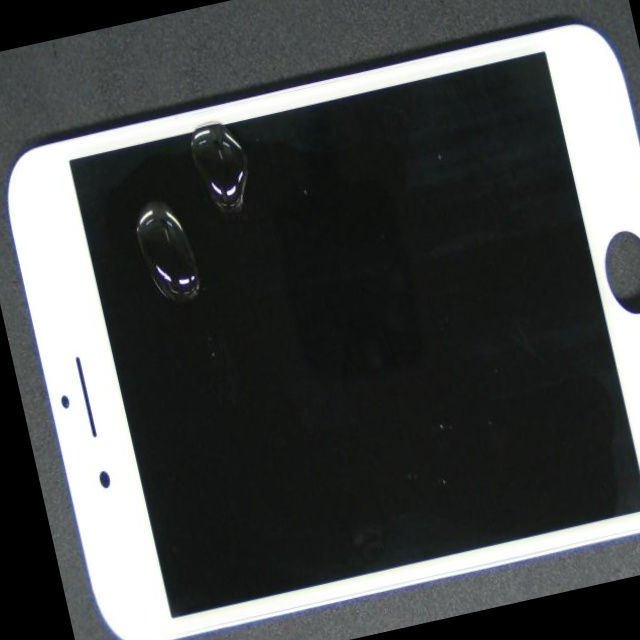oil: (71, 0, 332, 236), (99, 143, 303, 348)
